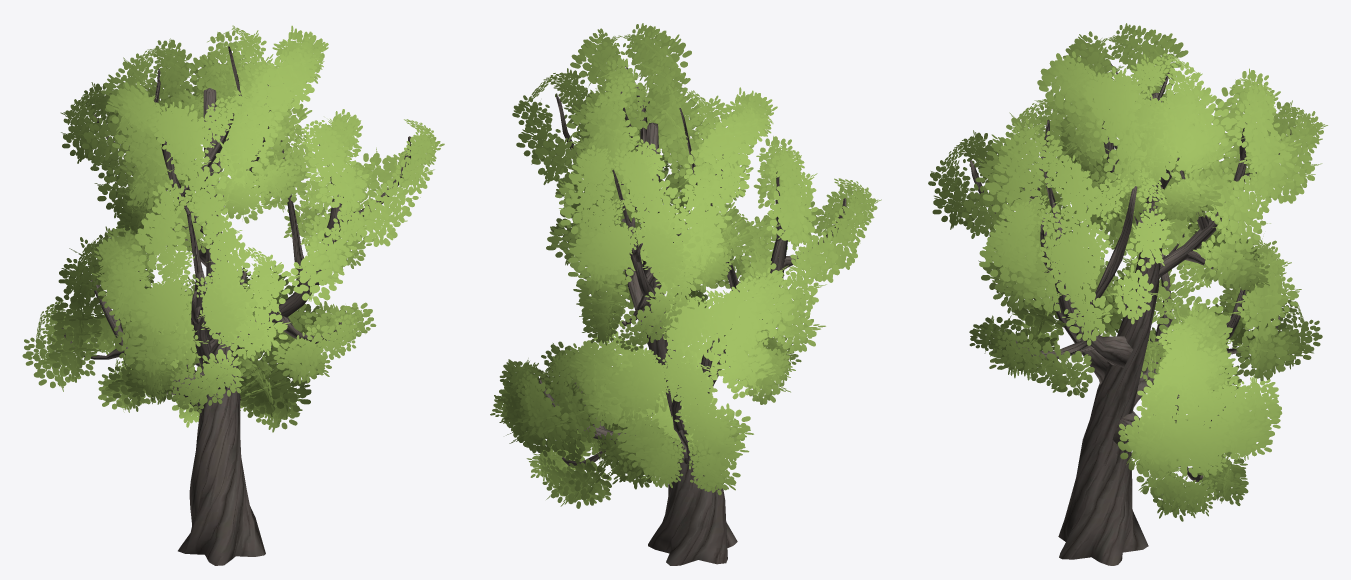
The model's file is nktwisted3.lod1.glb.
3 views of the same model, side by side, from view 1: azimuth 30°, elevation 25°; view 2: azimuth 150°, elevation 25°; view 3: azimuth 270°, elevation 25° (orthographic). The views are drawn at different scales.
Parts seen in each view (by area): view 1: TwistedTree_3; view 2: TwistedTree_3; view 3: TwistedTree_3.
Boxes of the visible parts, x1,y1,x2,y2 form: TwistedTree_3: [22, 25, 444, 565]; TwistedTree_3: [490, 23, 881, 565]; TwistedTree_3: [928, 23, 1327, 565].
Size of the model in its own units: 11.36 by 16.07 by 11.51.
Materials: 2 (2 with a texture image).
